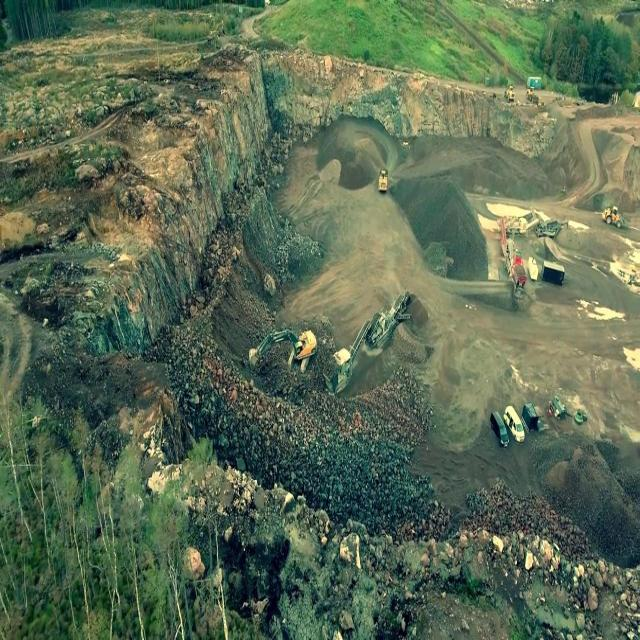Excavator: (246, 325, 318, 376)
Loader: (600, 204, 626, 228)
